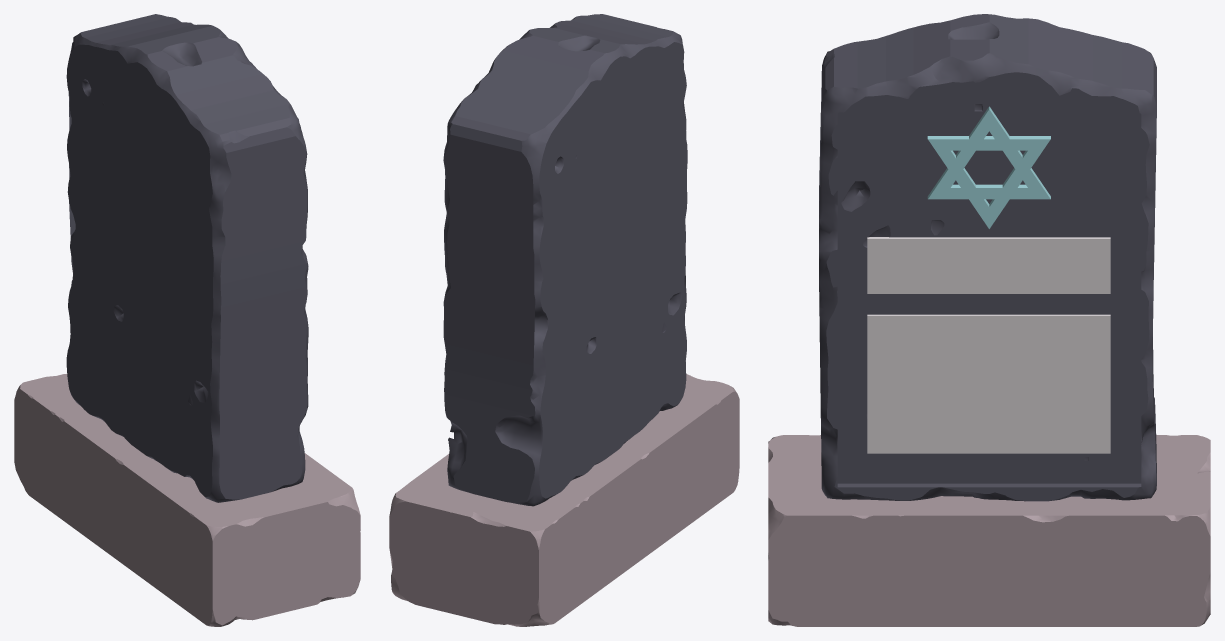
The model's file is gravestone.fbx.
3 renders of one model, left to right at view 1: azimuth 30°, elevation 25°; view 2: azimuth 150°, elevation 25°; view 3: azimuth 270°, elevation 25°, orthographic. The views are drawn at different scales.
Visible parts, largest first — view 1: Cube.001_dmg, Cube_dmg; view 2: Cube.001_dmg, Cube_dmg; view 3: Cube.001_dmg, Cube_dmg, Plane.001, Plane, Star.
Boxes of the visible parts, x1=… form: Cube.001_dmg: x1=66, y1=14, x2=308, y2=502; Cube_dmg: x1=14, y1=374, x2=360, y2=626; Cube.001_dmg: x1=443, y1=14, x2=687, y2=506; Cube_dmg: x1=389, y1=374, x2=739, y2=626; Cube.001_dmg: x1=819, y1=14, x2=1156, y2=501; Cube_dmg: x1=768, y1=435, x2=1210, y2=626; Plane.001: x1=867, y1=314, x2=1110, y2=453; Plane: x1=867, y1=237, x2=1110, y2=293; Star: x1=927, y1=106, x2=1050, y2=228.
Bounding box in the file's own units: 309 × 988 × 719.
